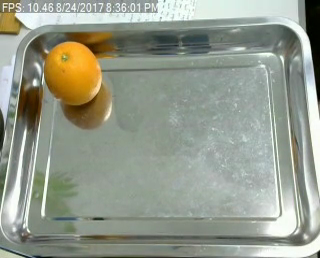Orange: (44, 40, 102, 105)
